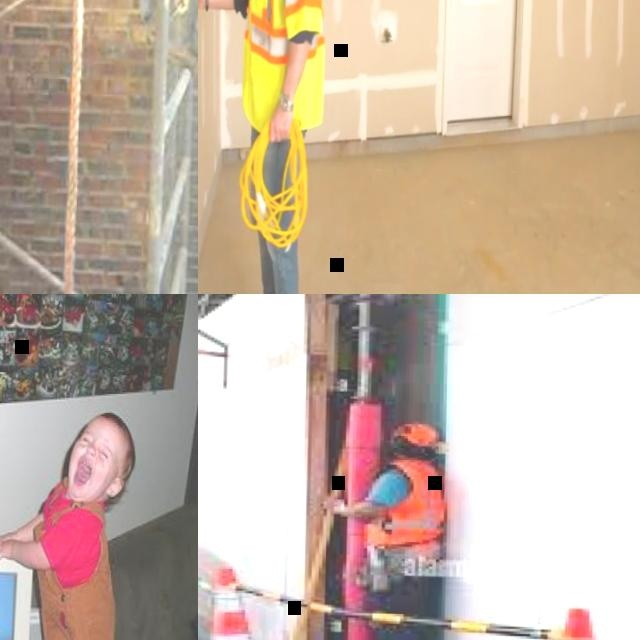NO-Hardhat: (91, 407, 138, 468), (394, 421, 442, 441)
NO-Mask: (61, 447, 114, 497)
NO-Safety Vest: (32, 487, 115, 640), (365, 457, 451, 550)
Person: (198, 0, 331, 294), (0, 402, 140, 640), (309, 417, 455, 640)
Safety Cone: (198, 564, 283, 640)
Safety Vest: (240, 0, 328, 132)
